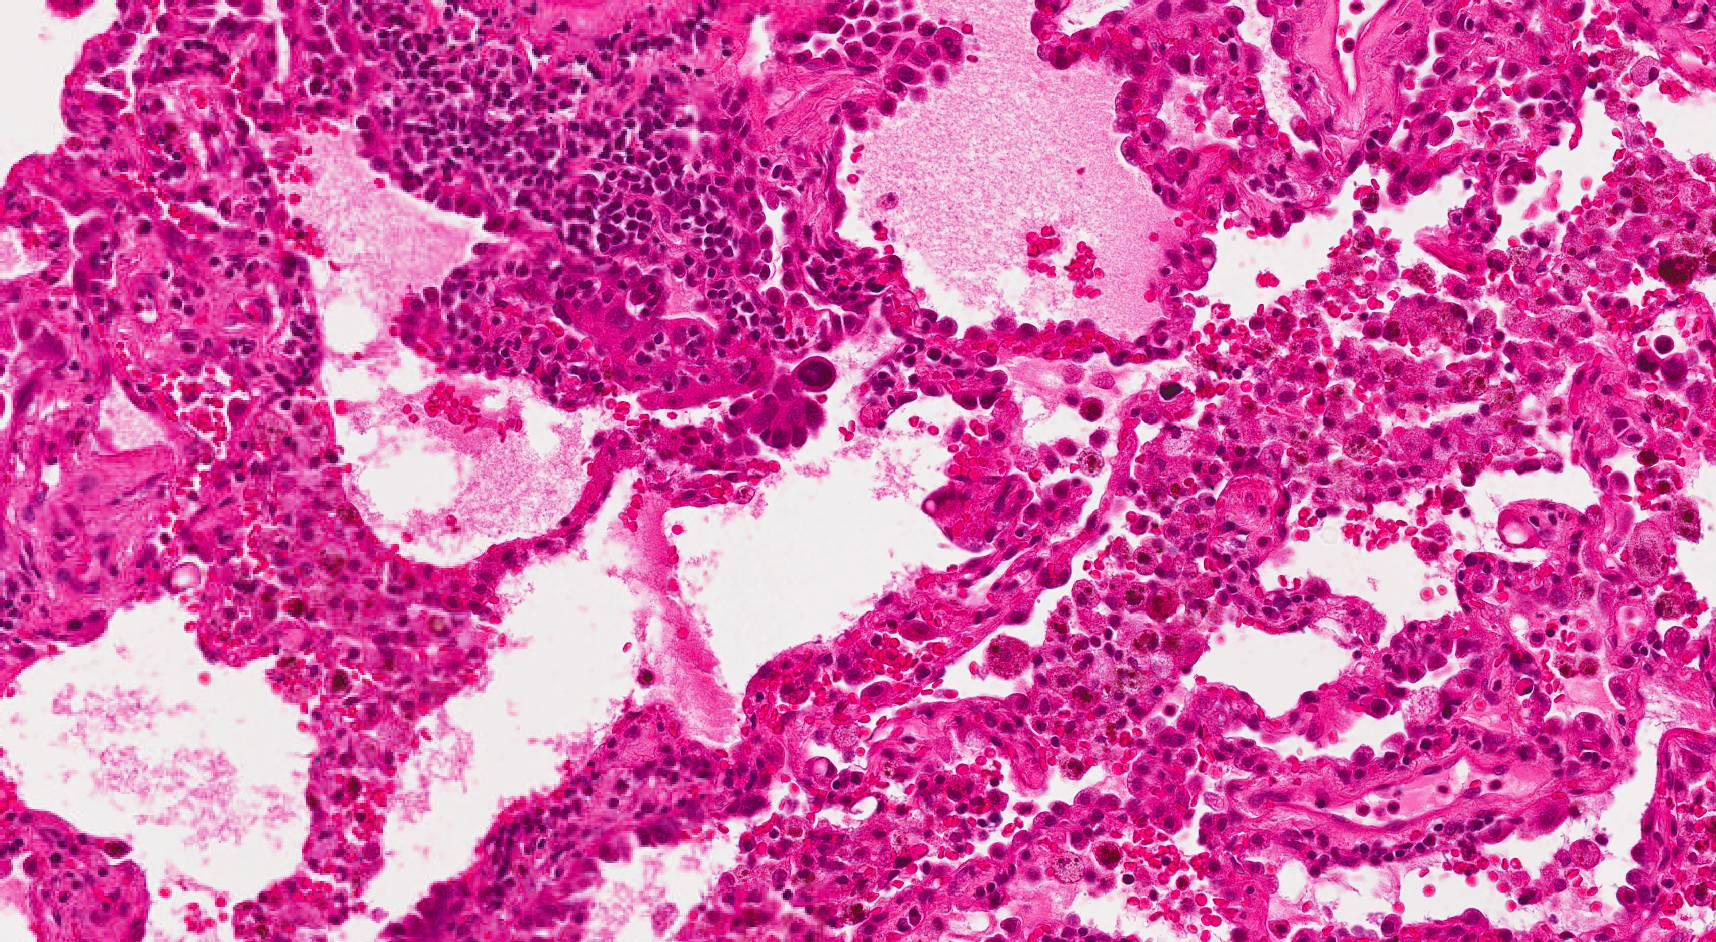stas: (729, 355, 840, 452)
